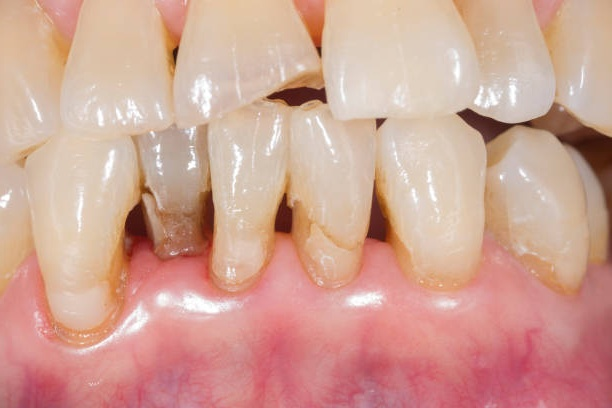Caries: (133, 183, 211, 260)
